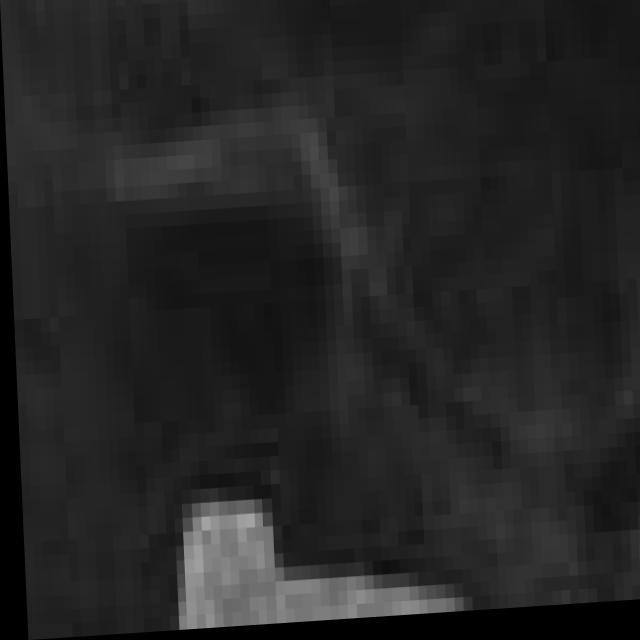fracture: (0, 0, 640, 619)
